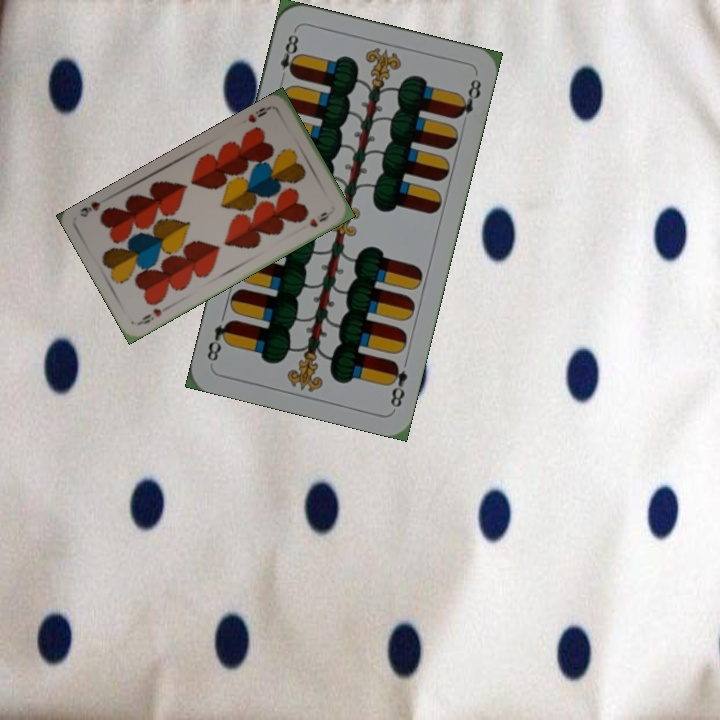E8: (384, 357, 410, 410), (276, 27, 302, 79)
H9: (244, 102, 276, 126), (134, 304, 164, 328)
